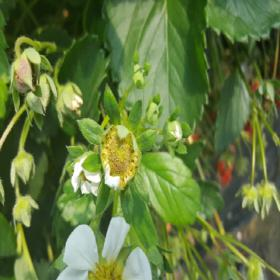Blossom Blight: (100, 125, 141, 190)
